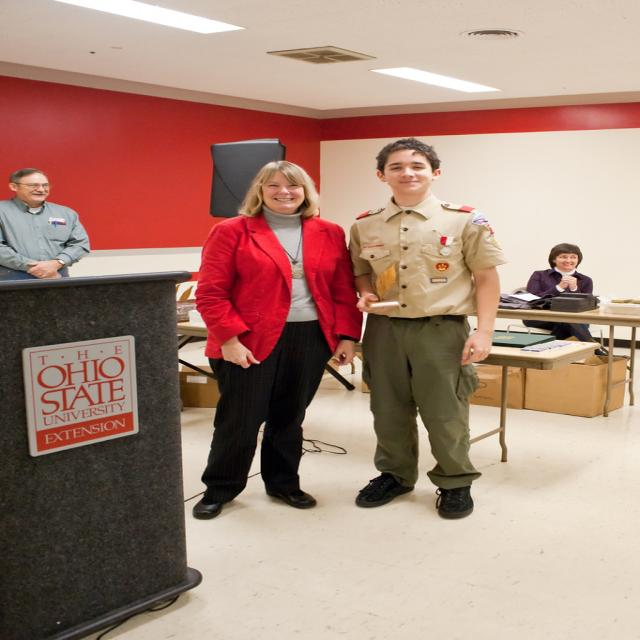desk: (478, 299, 638, 426)
person: (190, 161, 364, 520), (345, 140, 507, 518), (0, 169, 92, 280), (524, 242, 604, 354)
